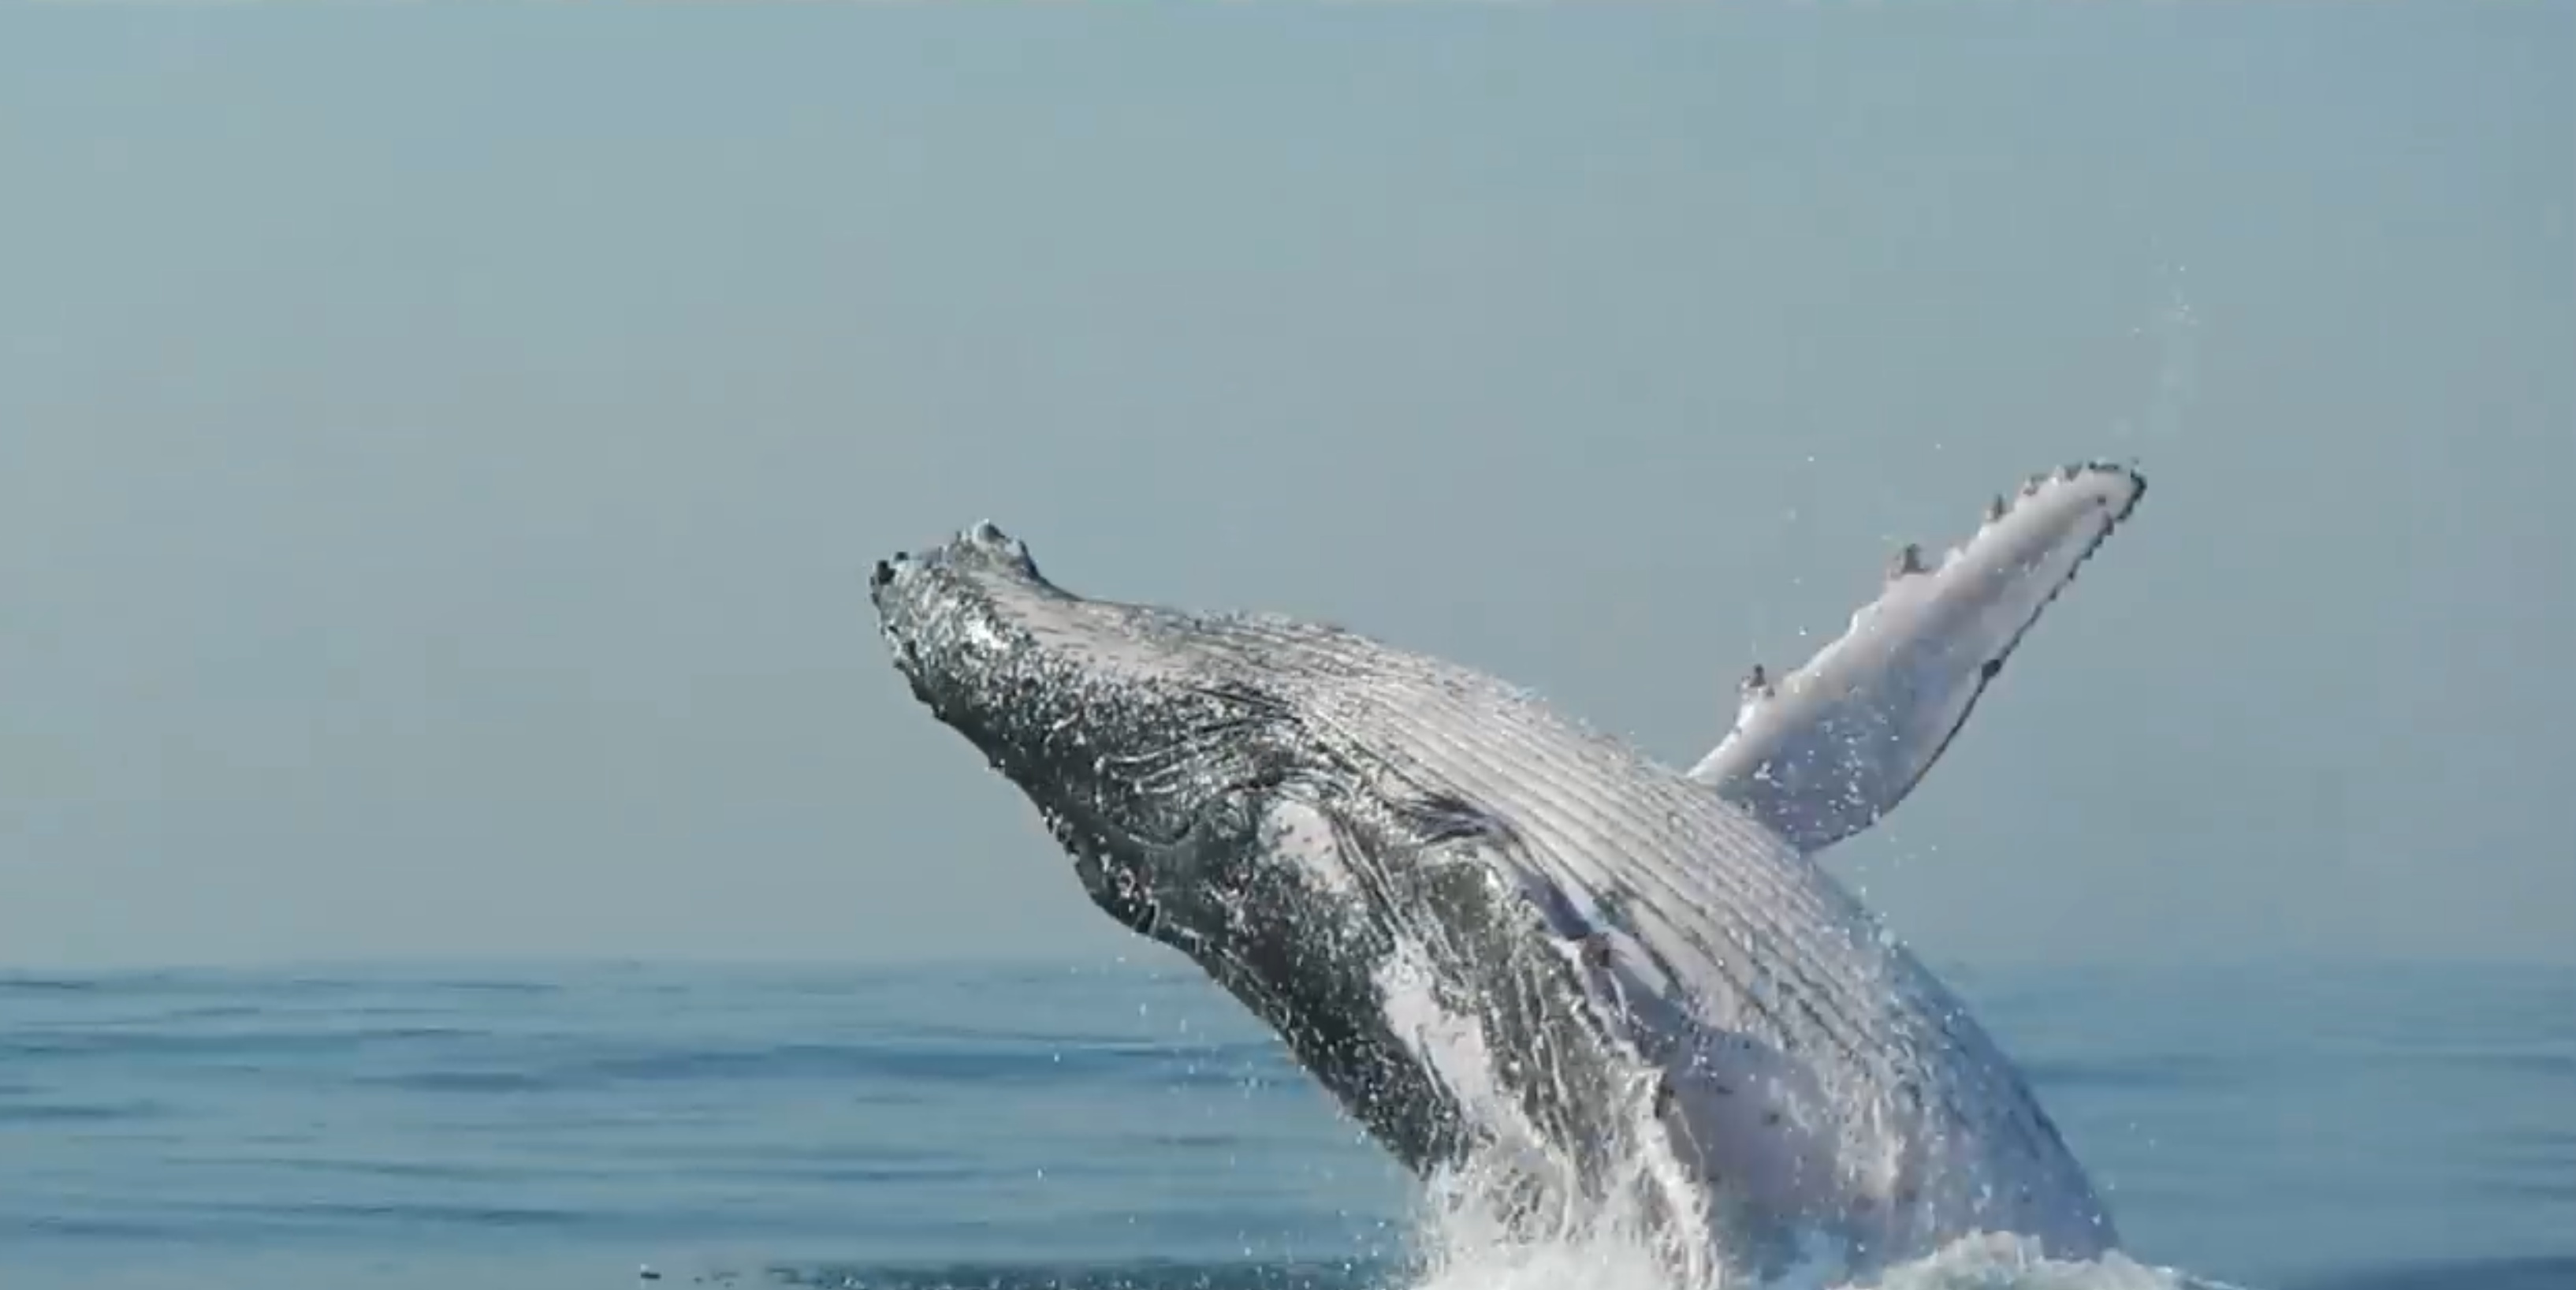humpback: (865, 503, 2121, 1255)
